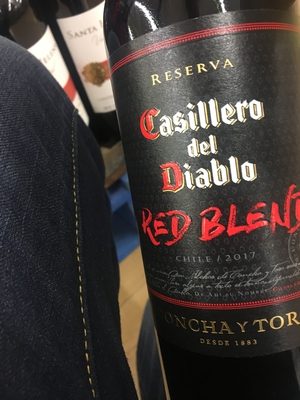casillero del diablo red blend: (105, 16, 300, 378)
